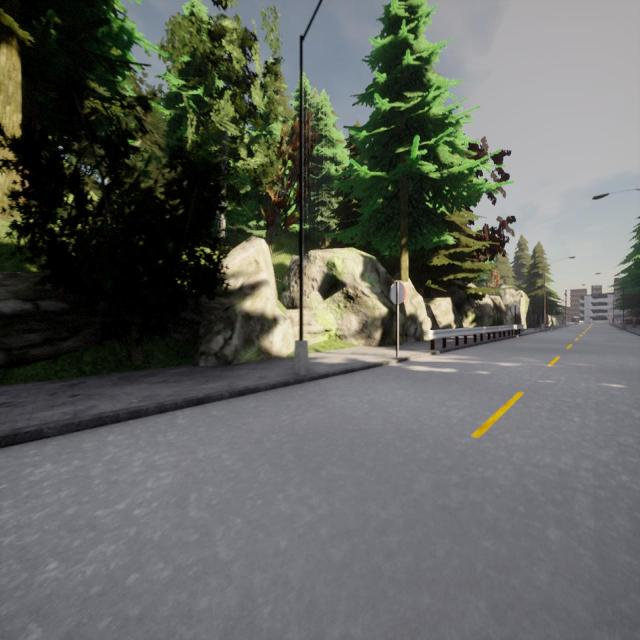Pedestrian: (632, 313, 638, 330), (612, 313, 616, 327)
Traffic_Signs: (389, 281, 406, 304), (511, 304, 520, 315)
